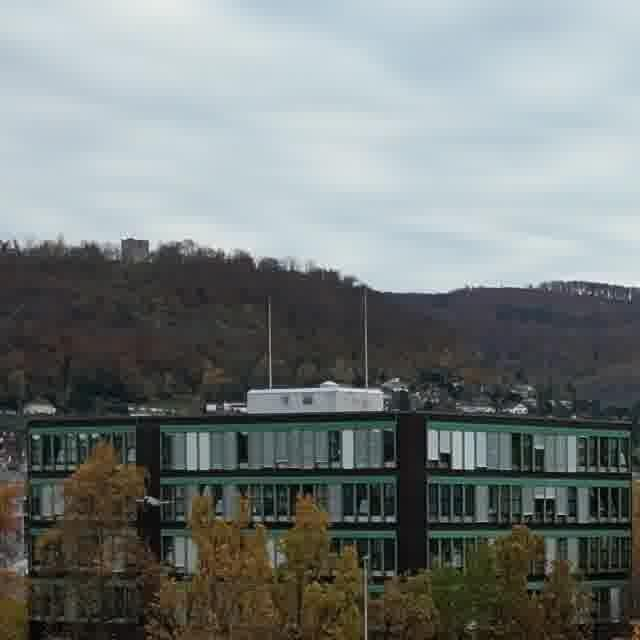Drohne: (138, 495, 168, 506)
